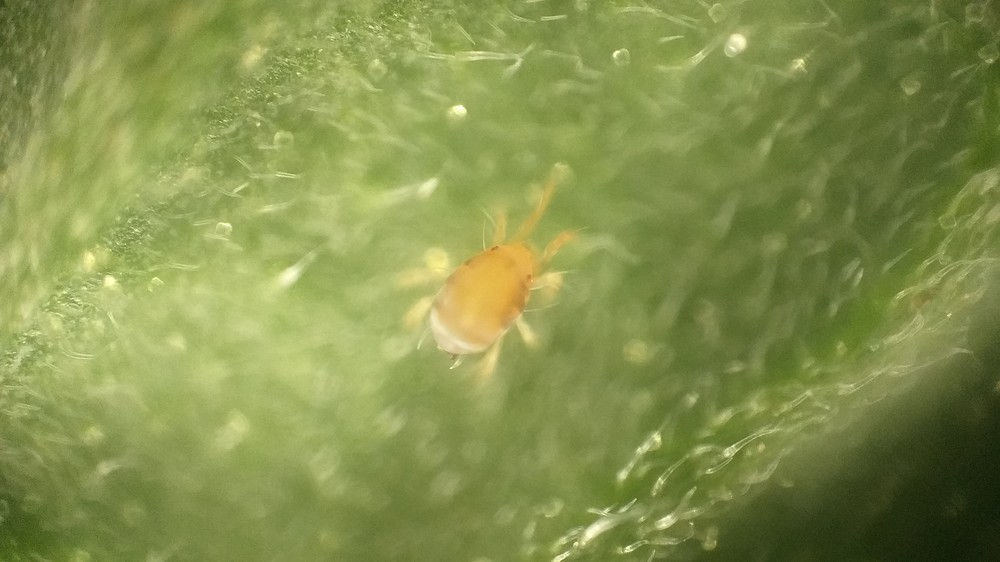Aracnido Rojo: (390, 182, 603, 390)
